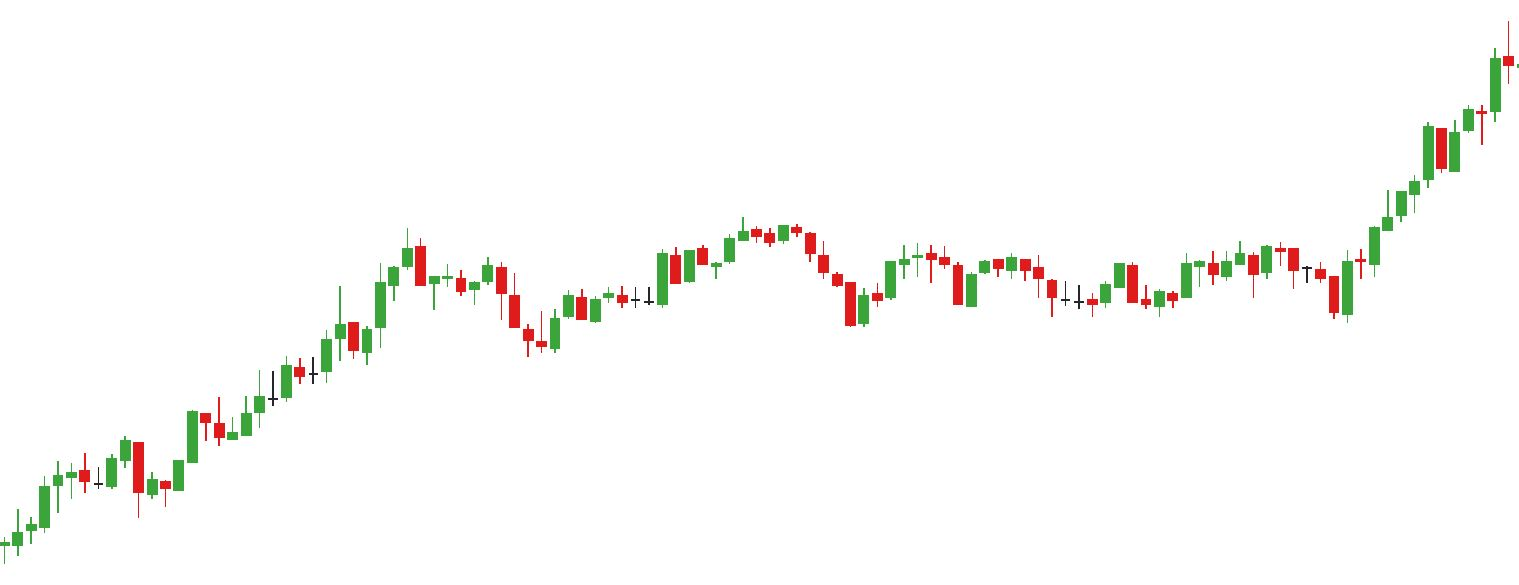buy: (1246, 250, 1356, 329), (76, 453, 159, 527)
